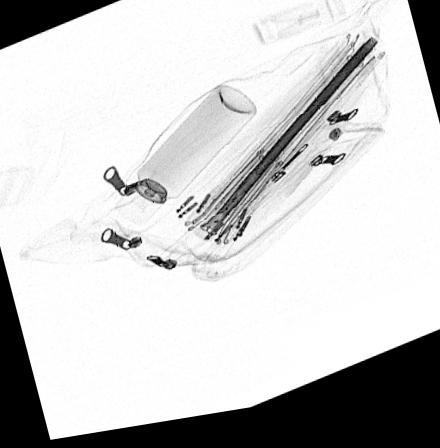Sprayer: (114, 91, 255, 229)
